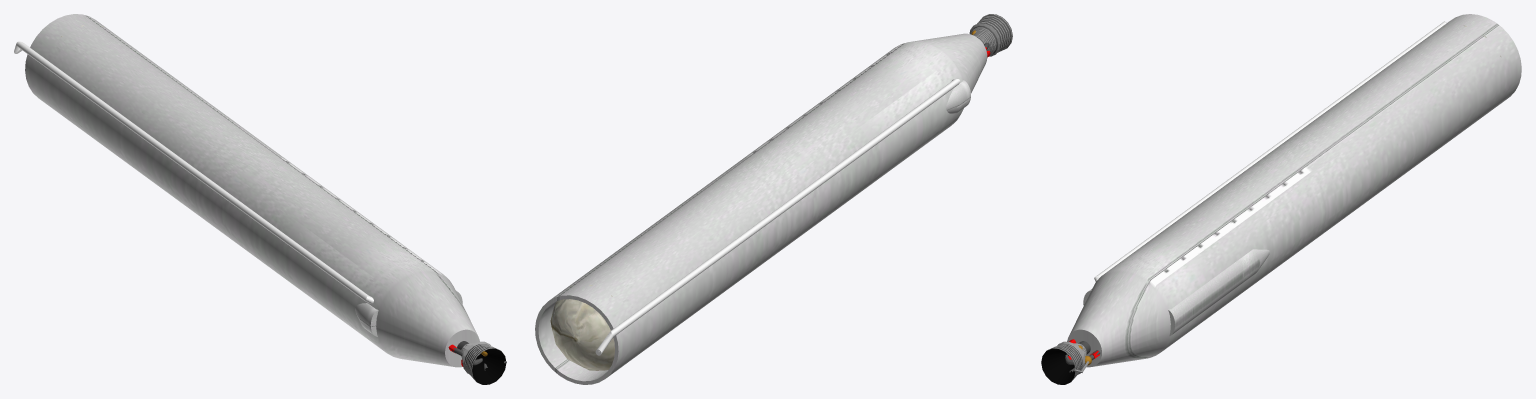
The model's file is stage1sustainer.obj.
3 renders of one model, left to right at view 1: azimuth 30°, elevation 25°; view 2: azimuth 150°, elevation 25°; view 3: azimuth 330°, elevation 25°, orthographic.
Visible parts, largest first — view 1: group11, group8, group13, group9, group16; view 2: group11, group12, group8, group16, group9; view 3: group11, group10, group8, group13, group16.
Part boxes in pixels (x1,y1,x2,y2): group11: (25, 14, 479, 367); group8: (14, 41, 373, 303); group13: (472, 348, 506, 384); group9: (355, 303, 378, 336); group16: (457, 341, 495, 376); group11: (535, 33, 987, 384); group12: (550, 285, 614, 370); group8: (595, 79, 960, 355); group16: (971, 14, 1012, 55); group9: (946, 80, 970, 113); group11: (1067, 14, 1521, 367); group10: (1168, 249, 1269, 336); group8: (1094, 21, 1446, 281); group13: (1041, 348, 1075, 384); group16: (1052, 341, 1090, 376).
Size of the model in its own units: 3.23 by 2.97 by 26.53.
9 materials, 2 textured.
